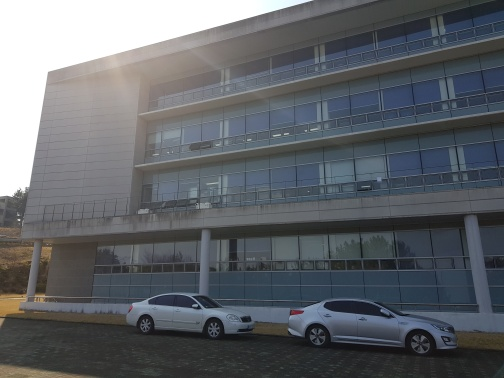Engineering College Building 4: (34, 24, 490, 285), (60, 64, 497, 301)
